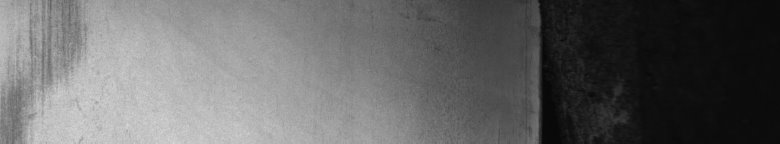ka: (13, 4, 67, 136)
